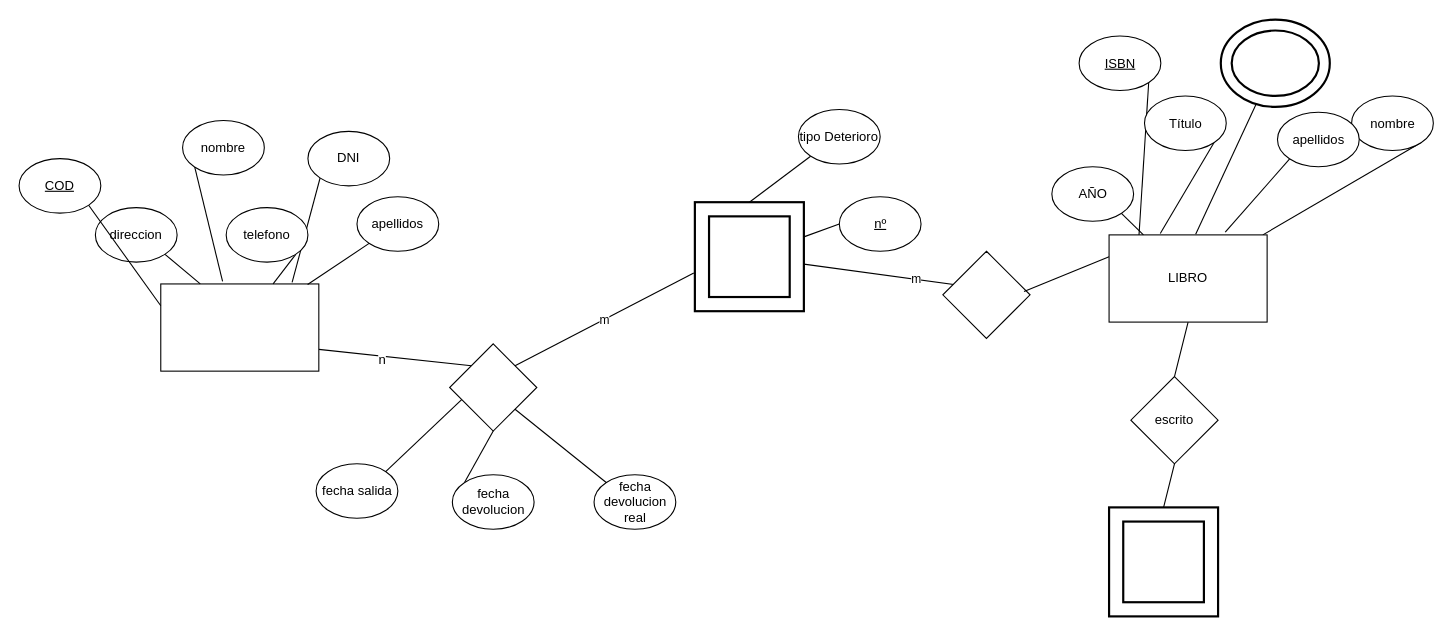
Some shapes in this 1453 by 637 pixel diagram are drawn without their labels. The centre of each missing label's shape, as x and y in pixels:
Autor: (x=1163, y=561)
Autores: (x=1274, y=62)
pide prestado: (x=493, y=387)
SOCIO: (x=239, y=327)
tiene: (x=986, y=294)
Volumen: (x=748, y=256)
